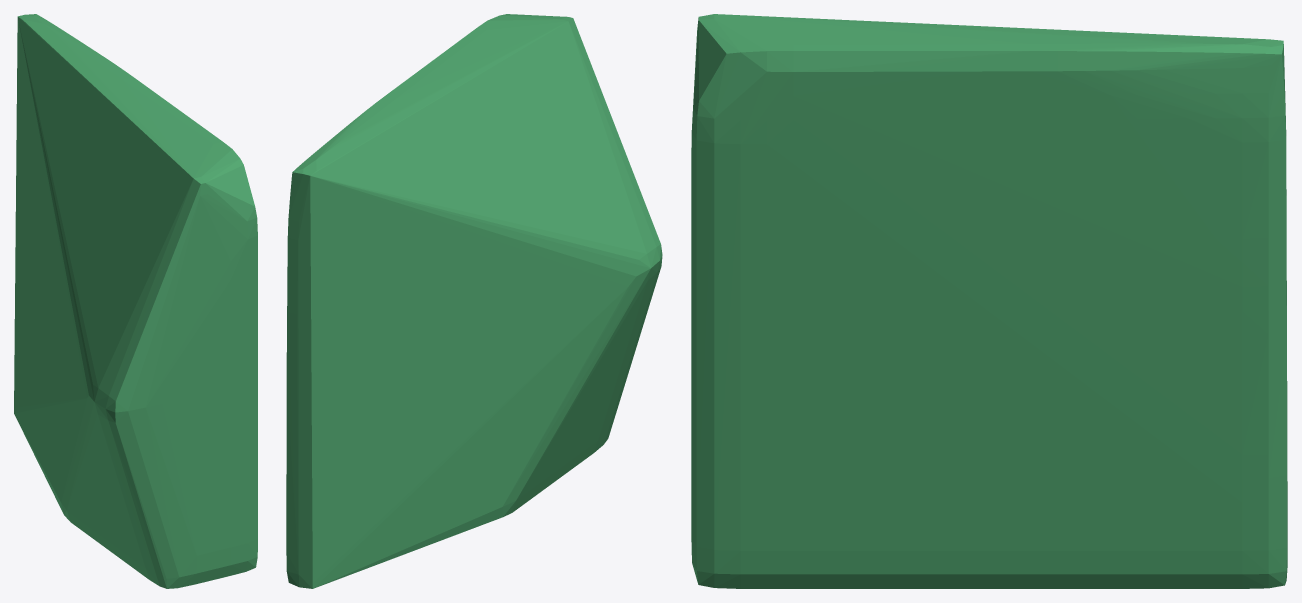
The picture shows the model from 3 angles, left to right: view 1: azimuth 30°, elevation 25°; view 2: azimuth 150°, elevation 25°; view 3: azimuth 270°, elevation 25°; orthographic projection. The views are drawn at different scales.
Size of the model in its own units: 0.0184 by 0.0467 by 0.0463.
